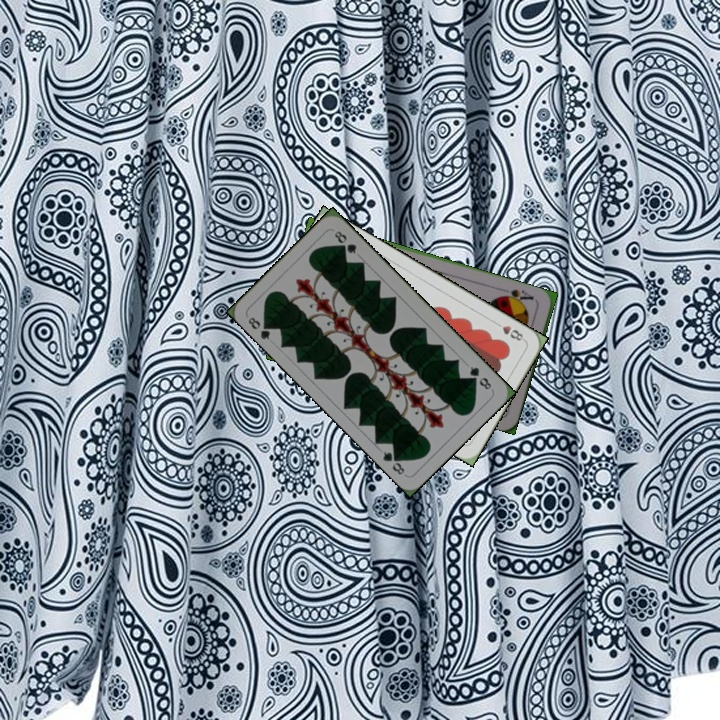G8: (243, 313, 275, 343), (466, 362, 494, 392)
H8: (491, 318, 528, 344)
SA: (497, 285, 536, 307)
